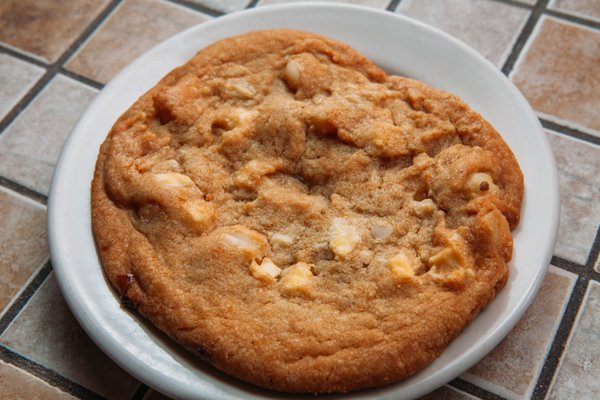curry: (0, 0, 592, 394)
sandwich: (89, 22, 520, 391)
sushi: (90, 23, 526, 391)
